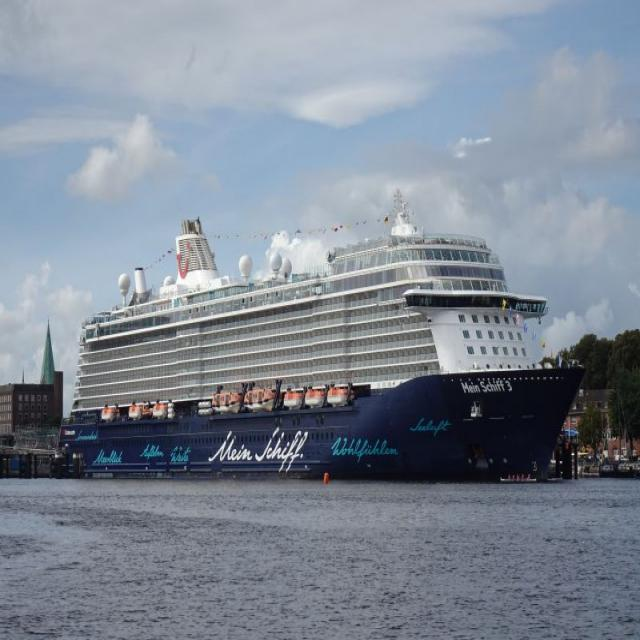cruises: (50, 198, 592, 493)
